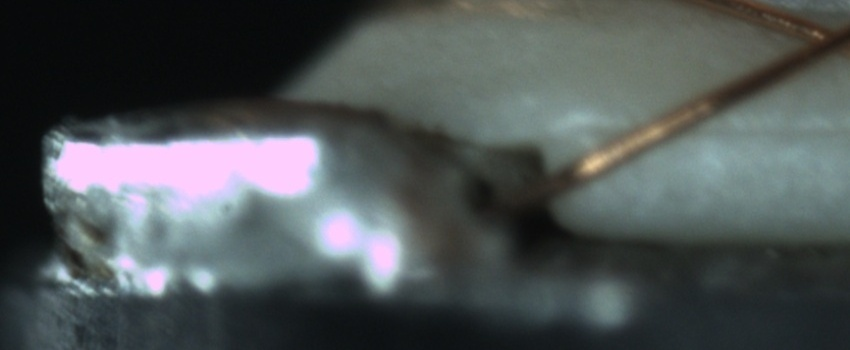CL: (775, 7, 850, 67)
DL: (589, 99, 848, 156)
